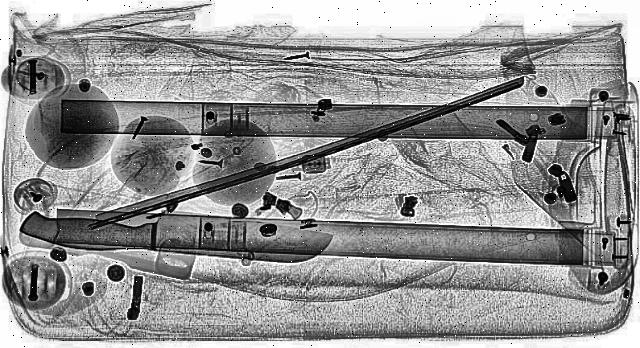Knife: (16, 206, 338, 266)
